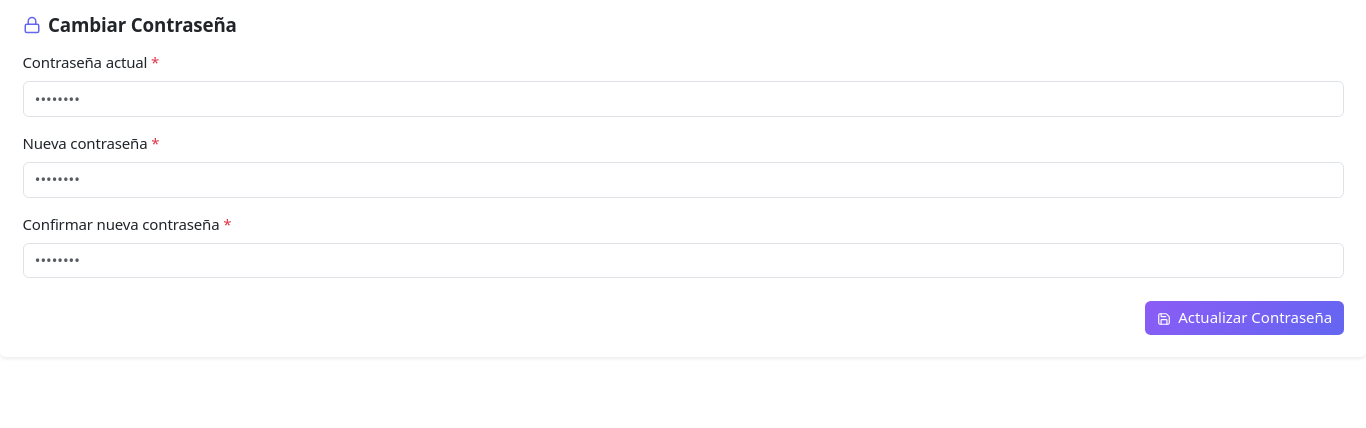
Test: ChangePasswordCard › muestra error si la contraseña actual es incorrecta
The image size is (1366, 428).
Type "malactual" into the password field with placeholder "••••••••" below "Contraseña actual".
click(683, 99); type("malactual")  # box [22,81,1344,117]
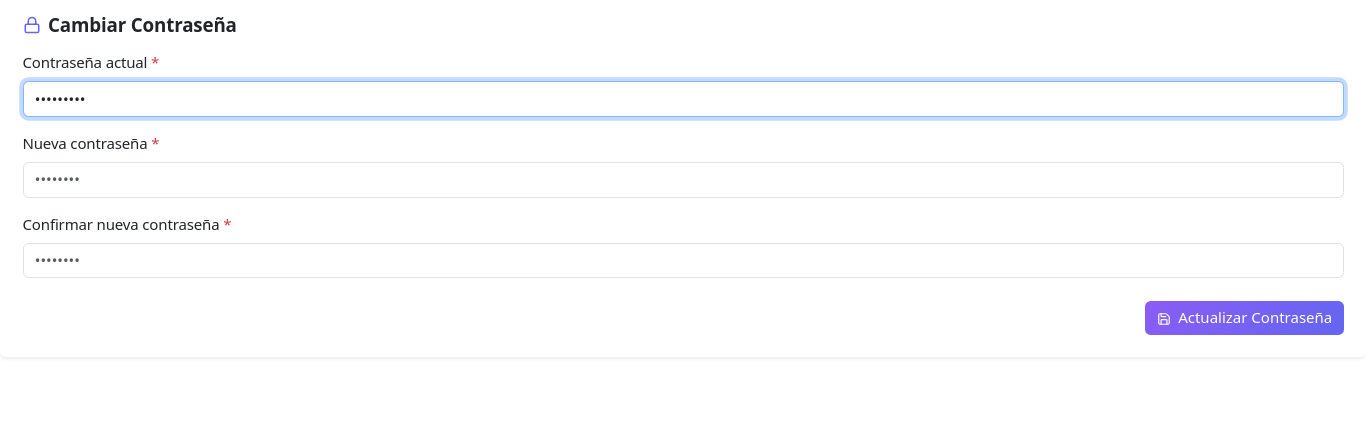
Type "nueva123" into the 1st password field with placeholder "••••••••".
click(683, 180); type("nueva123")  # box [22,162,1344,198]
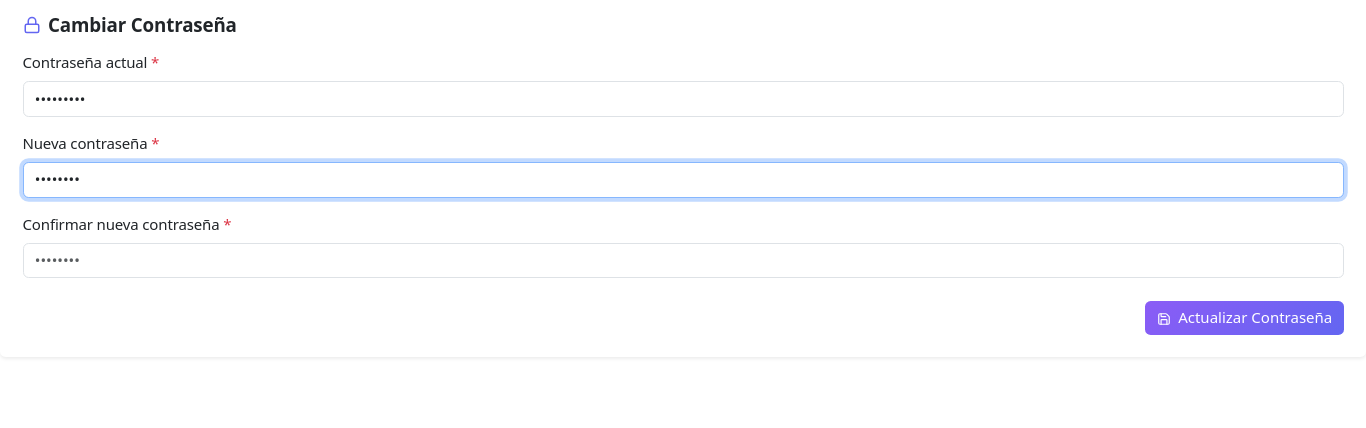
Type "nueva123" into the password field with placeholder "••••••••".
click(683, 260); type("nueva123")  # box [22,242,1344,278]
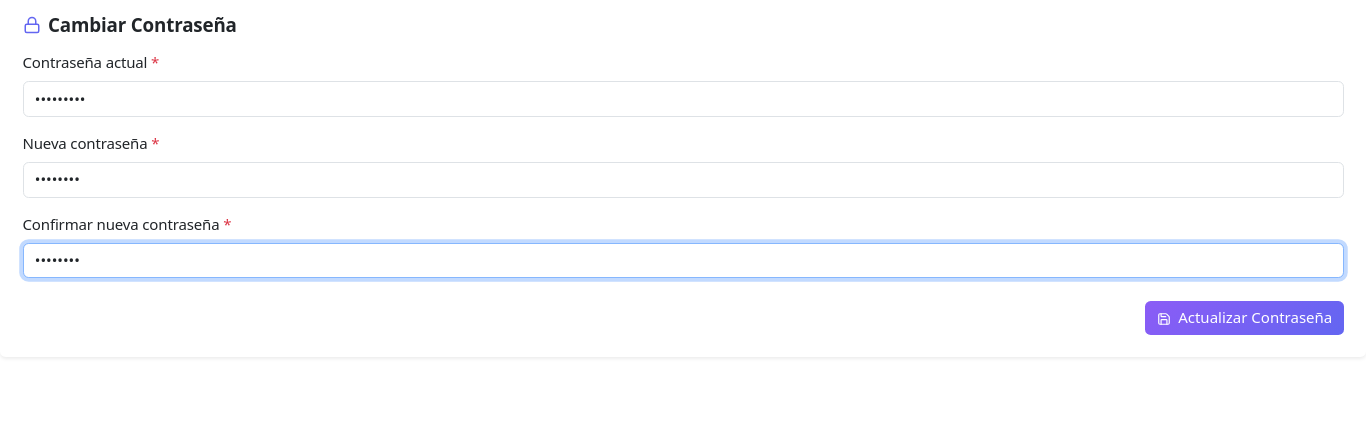
Click the button "Actualizar Contraseña".
click(1244, 318)  # box [1145,301,1344,335]
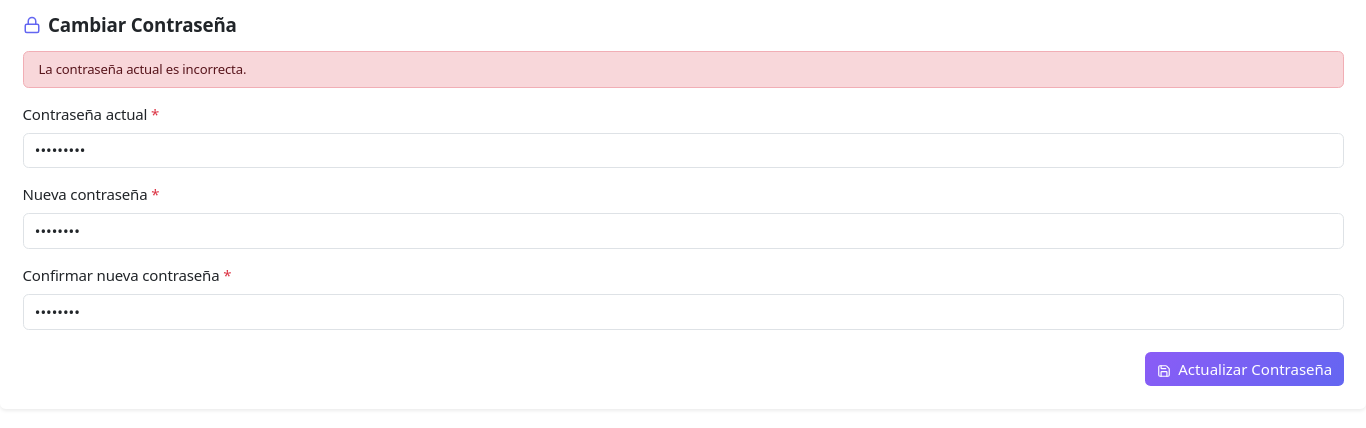
Now the text "La contraseña actual es incorrecta." is shown, box [22,51,1344,88]
